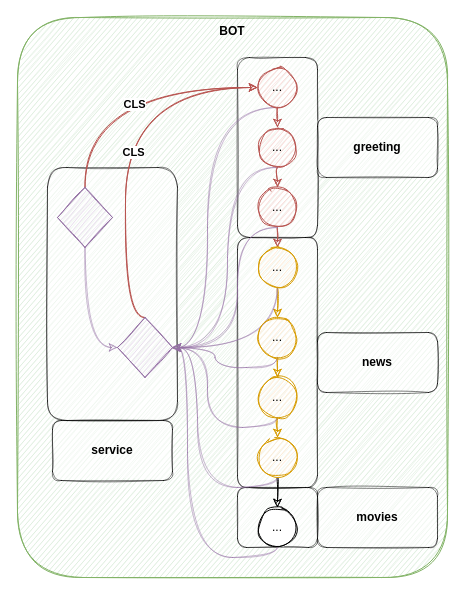
The diagram is 465 pixels wide and 595 high, and some of its shapes have lost their labels. The shapes that lost their labels are listed below. From the top down, each one's box as (x1, y1, x2, y2) in pixels, then its label:
(56, 186, 112, 248): START
(116, 316, 172, 378): FALLBACK
